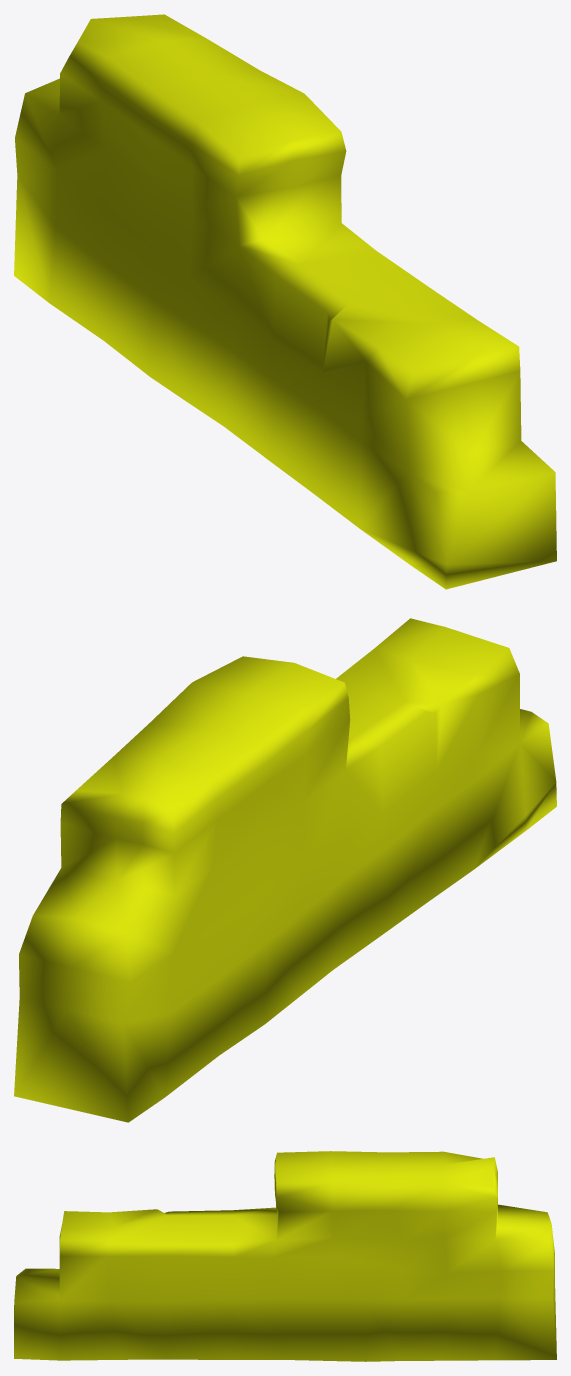
The model's file is Wall_Break_01D_Lod0.fbx.
3 views of the same model, one above another, from view 1: azimuth 30°, elevation 25°; view 2: azimuth 150°, elevation 25°; view 3: azimuth 270°, elevation 25° (orthographic). The views are drawn at different scales.
Parts seen in each view (by area): view 1: Wall_Break_01D_Lod0; view 2: Wall_Break_01D_Lod0; view 3: Wall_Break_01D_Lod0.
Part boxes in pixels (left/top/right/bottom): Wall_Break_01D_Lod0: left=14, top=14, right=556, bottom=589; Wall_Break_01D_Lod0: left=14, top=618, right=556, bottom=1122; Wall_Break_01D_Lod0: left=14, top=1151, right=556, bottom=1361.
Size of the model in its own units: 170 by 405 by 1107.
